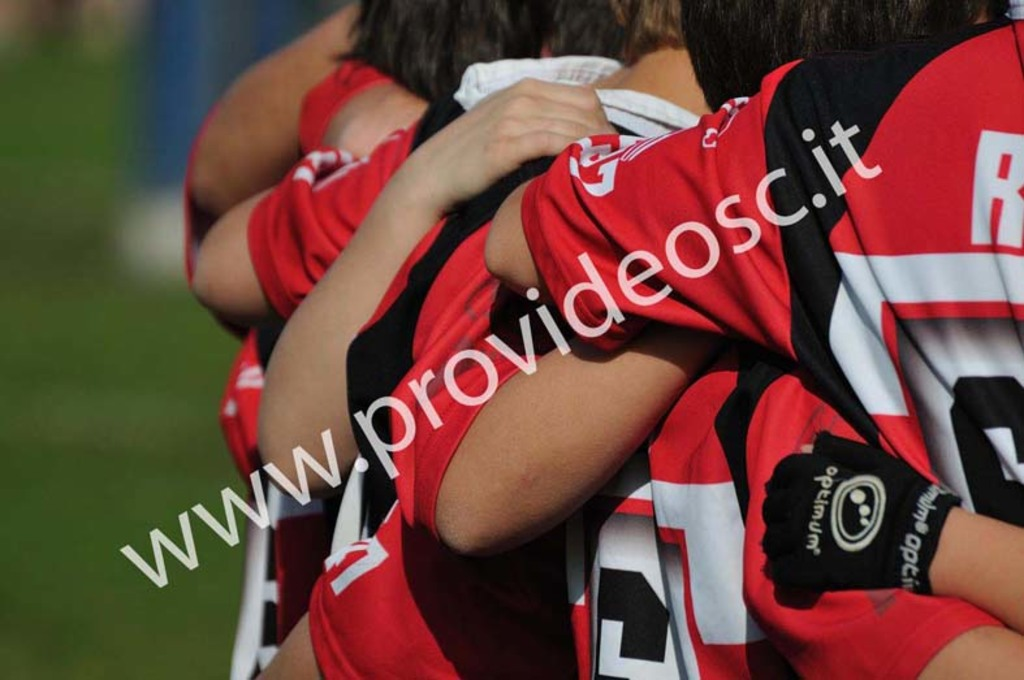Human_hand: (757, 430, 956, 610), (446, 56, 631, 195)
